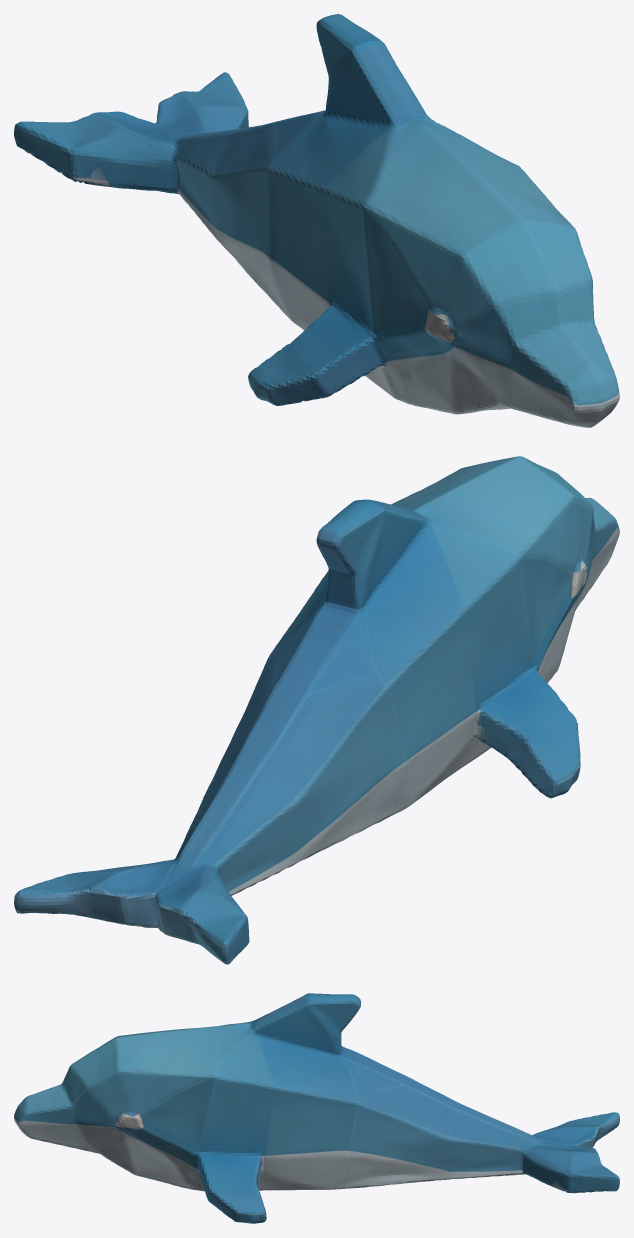
The model's file is dolphin_1772492705447.glb.
The picture shows the model from 3 angles, top to bottom: view 1: azimuth 30°, elevation 25°; view 2: azimuth 150°, elevation 25°; view 3: azimuth 270°, elevation 25°; orthographic projection. The views are drawn at different scales.
Parts seen in each view (by area): view 1: demo_textured.obj; view 2: demo_textured.obj; view 3: demo_textured.obj.
Boxes of the visible parts, x1,y1,x2,y2 form: demo_textured.obj: (14,14,619,427); demo_textured.obj: (14,456,619,964); demo_textured.obj: (14,993,619,1223).
Size of the model in its own units: 0.7528 by 0.6648 by 1.99.
1 material, 1 textured.
